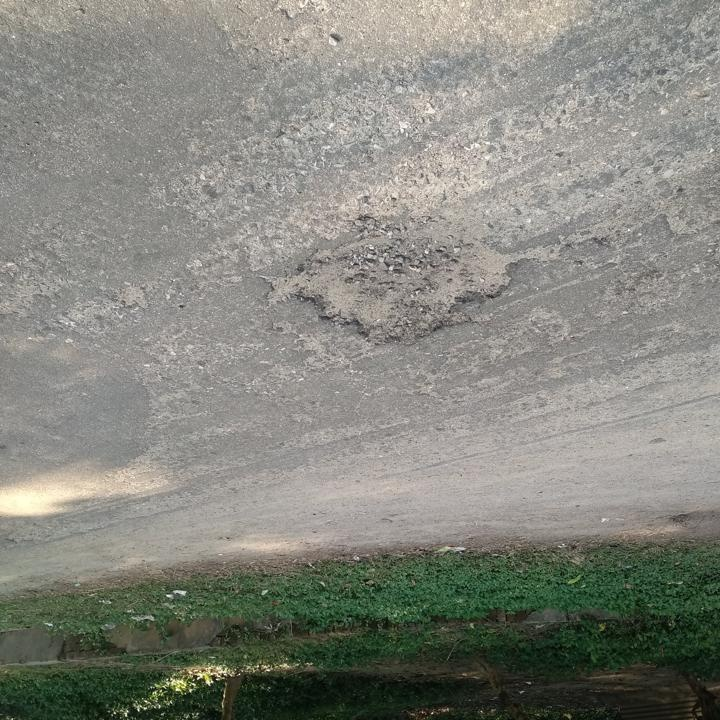pothole: (257, 217, 532, 351)
